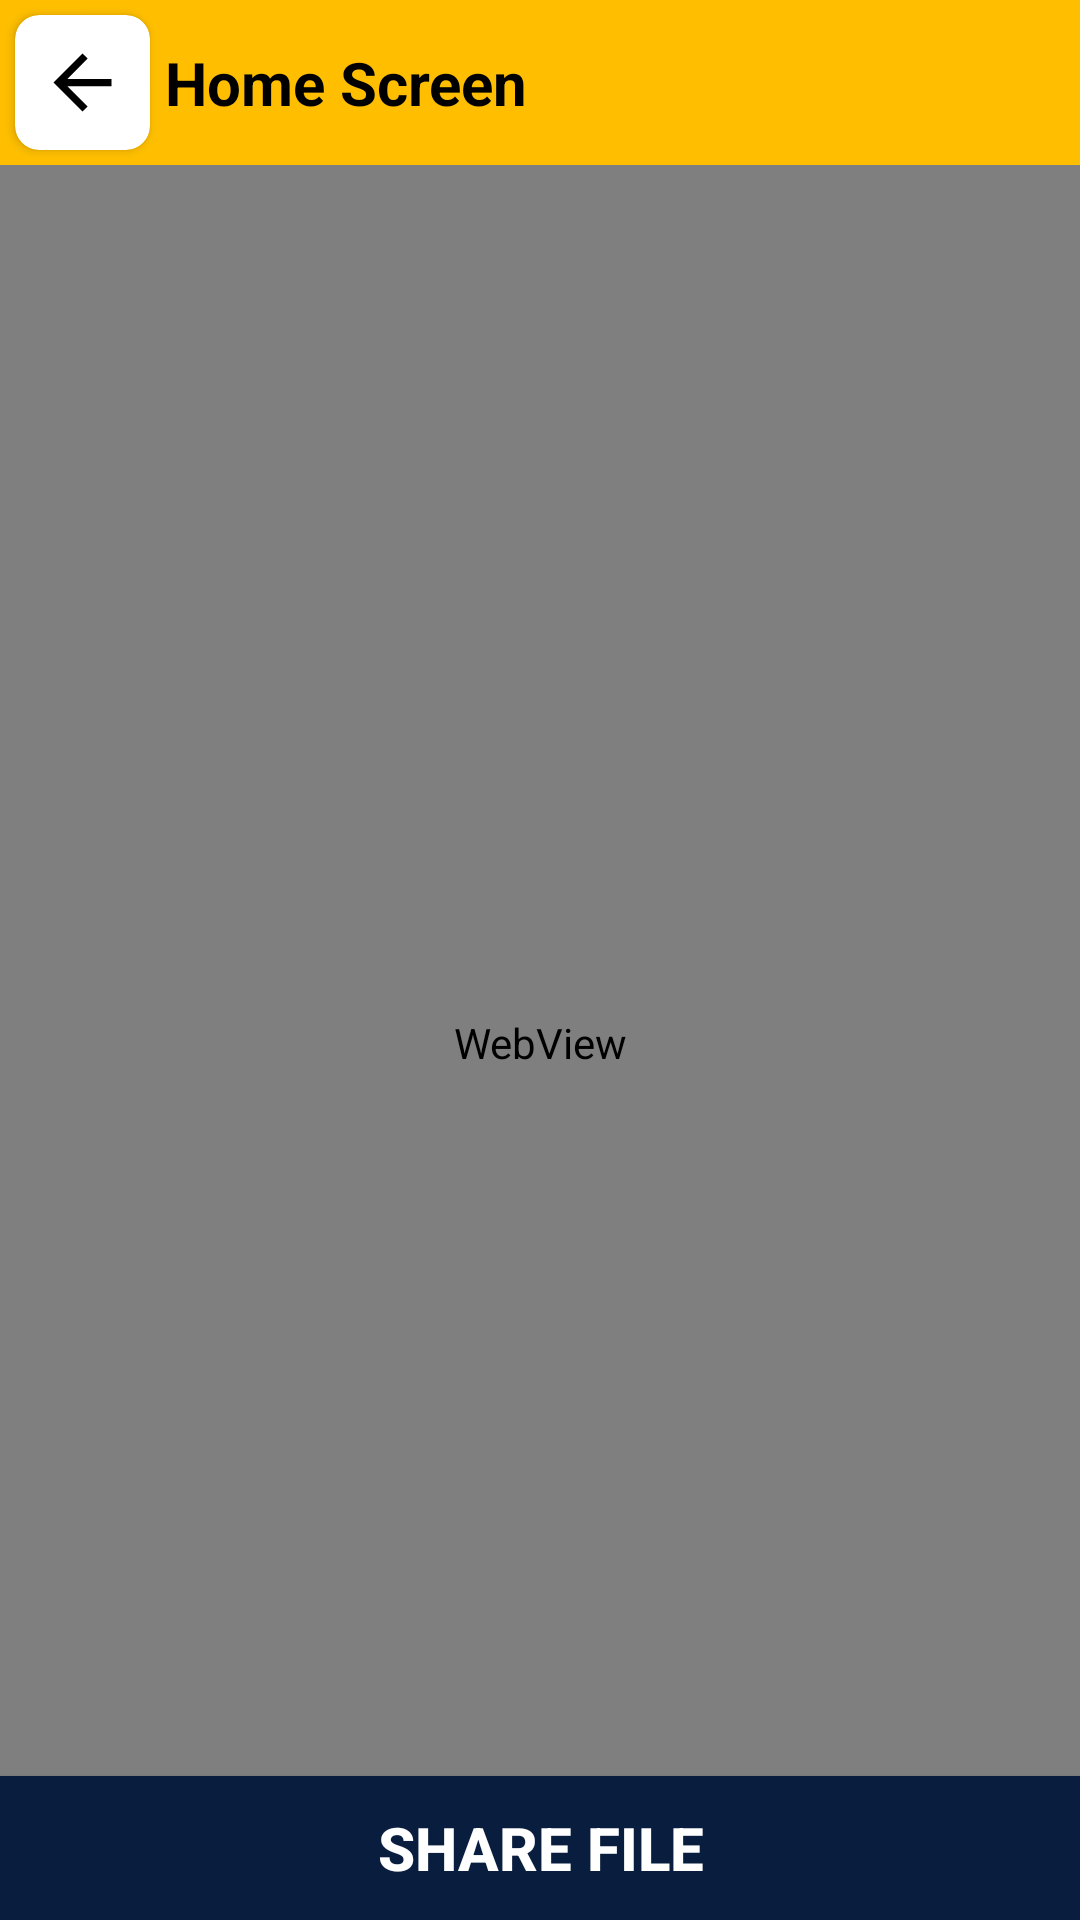

Point at icon controls on the screen. Image size 1080px×1920px, points as point (x, y).
back: point (82, 82)
